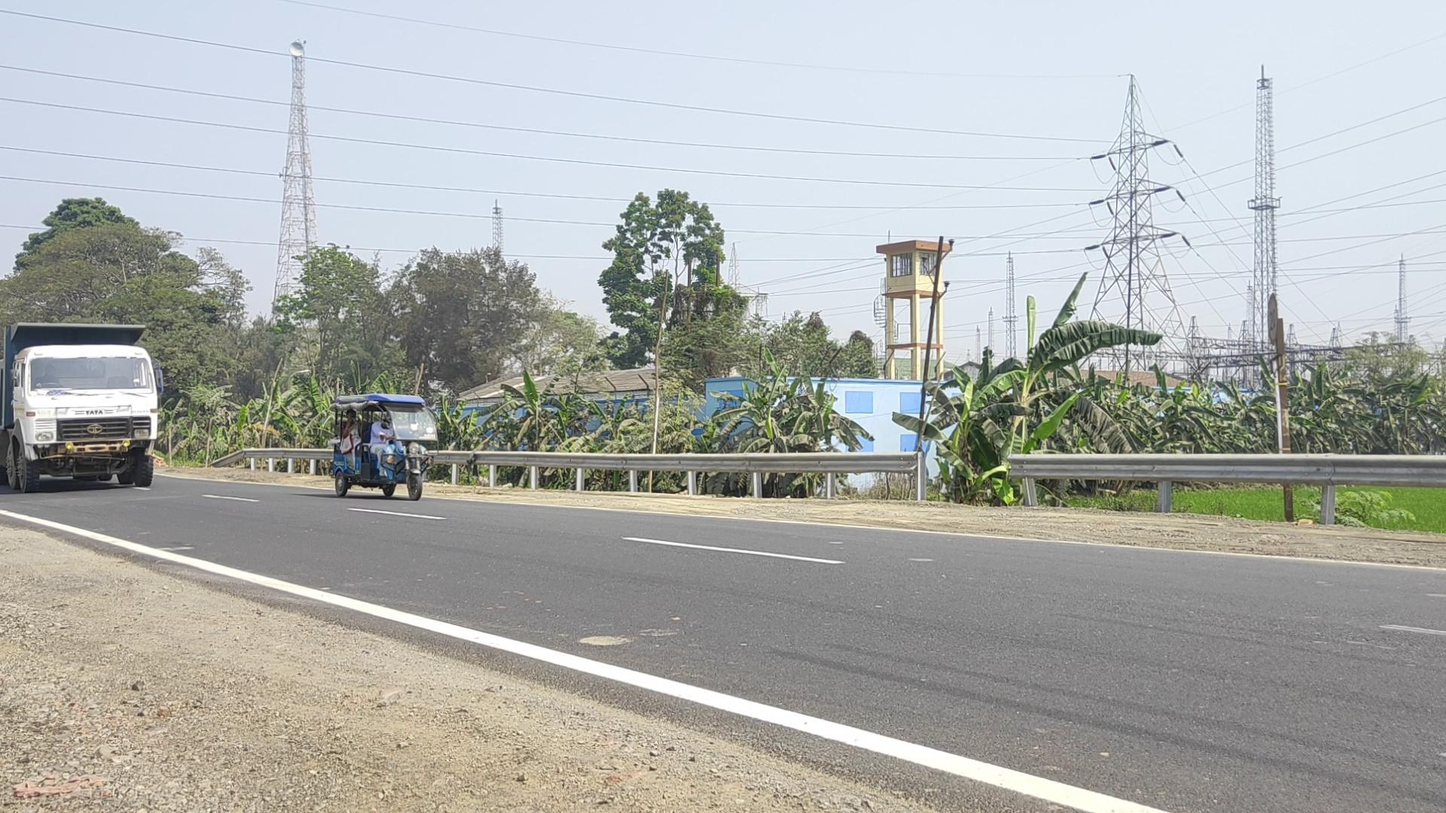Auto: (331, 393, 438, 501)
truck: (1, 320, 163, 494)
